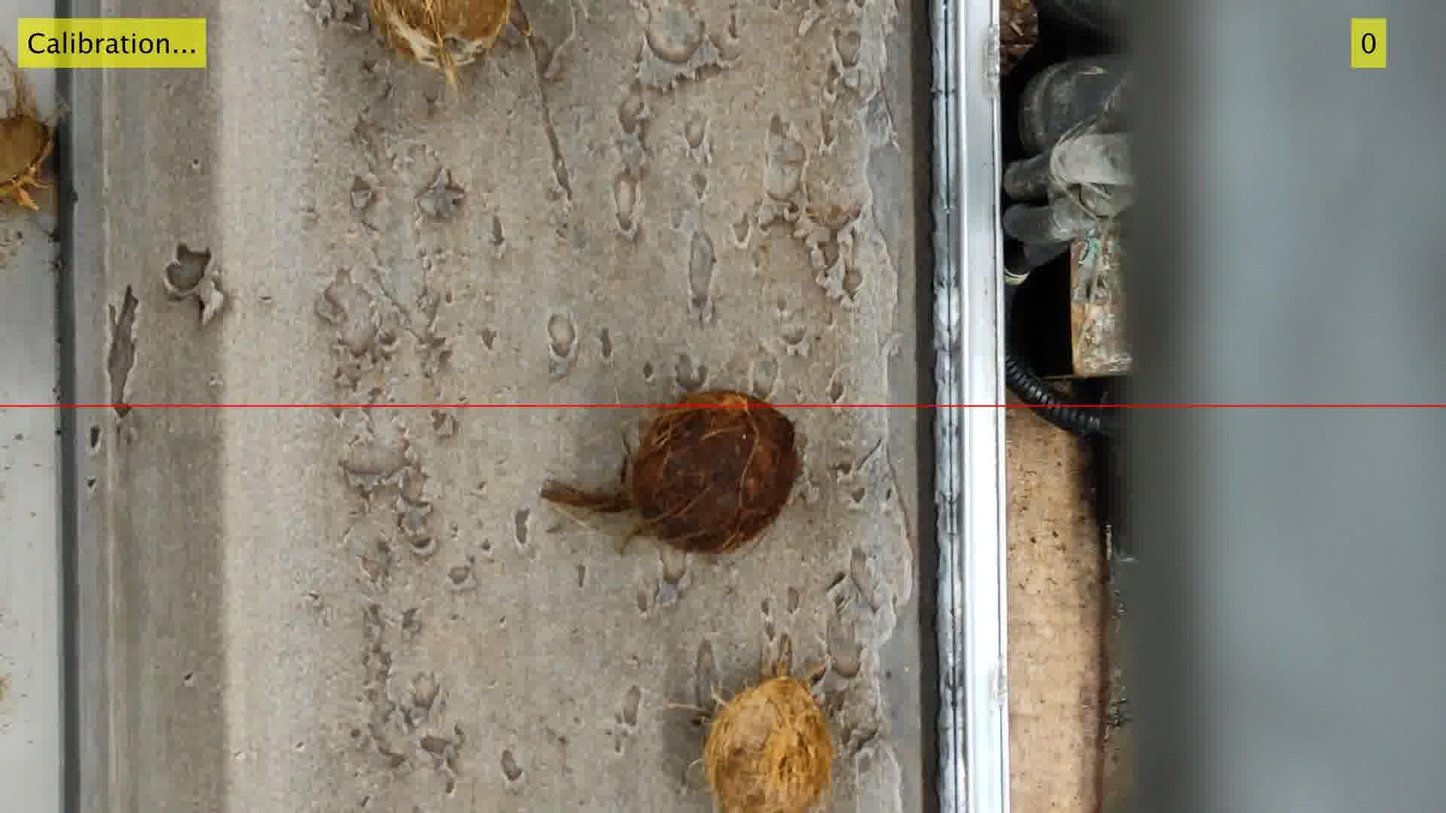Coconut: (541, 390, 801, 553), (694, 650, 841, 812), (369, 0, 516, 89), (0, 49, 54, 210), (1000, 0, 1039, 75)
